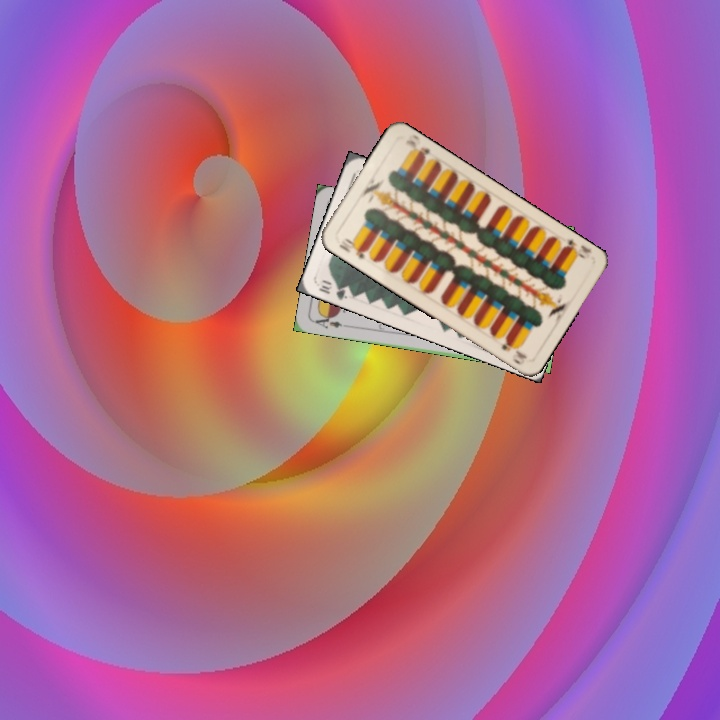E10: (558, 233, 593, 262), (335, 234, 370, 262)
EA: (310, 310, 350, 331)
G10: (315, 276, 355, 302)
